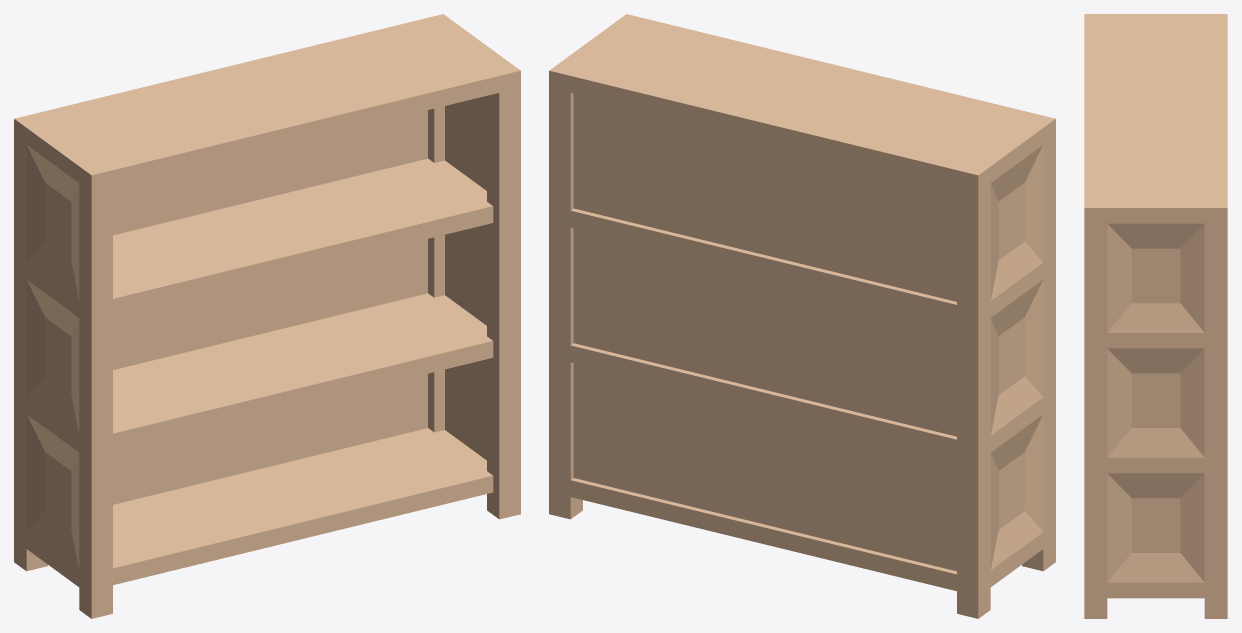
Rendered from bookcaseClosedWide.glb.
3 views of the same model, side by side, from view 1: azimuth 30°, elevation 25°; view 2: azimuth 150°, elevation 25°; view 3: azimuth 270°, elevation 25° (orthographic). The views are drawn at different scales.
Visible parts, largest first — view 1: bookcaseClosedWide(Clone); view 2: bookcaseClosedWide(Clone); view 3: bookcaseClosedWide(Clone).
Boxes of the visible parts, x1,y1,x2,y2 form: bookcaseClosedWide(Clone): (14, 14, 520, 618); bookcaseClosedWide(Clone): (549, 14, 1055, 618); bookcaseClosedWide(Clone): (1084, 14, 1227, 618).
Size of the model in its own units: 0.8 by 0.79 by 0.25.
